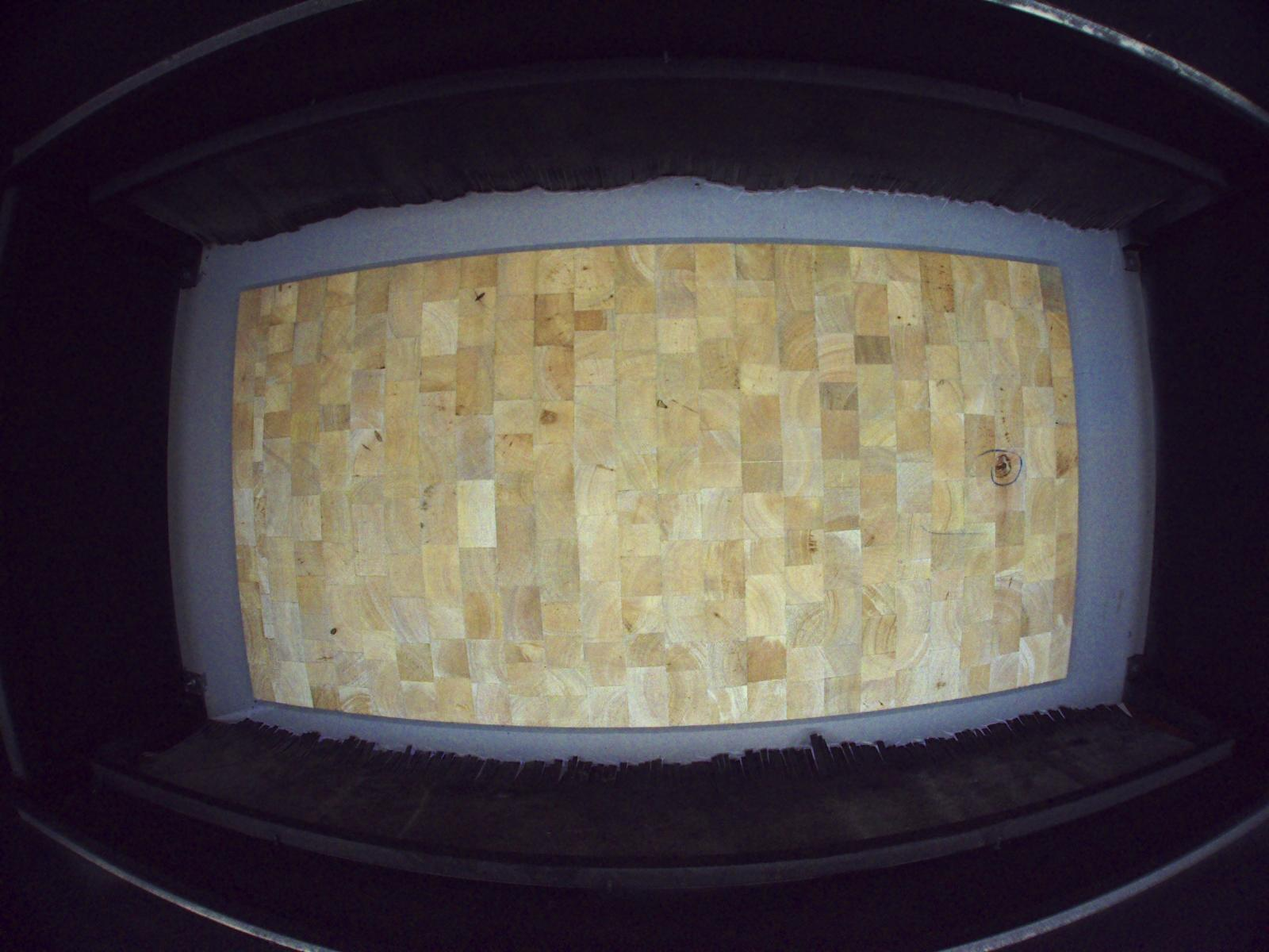nudillo: (993, 452, 1013, 479)
sheck_ecuatoriano: (471, 286, 495, 311)
